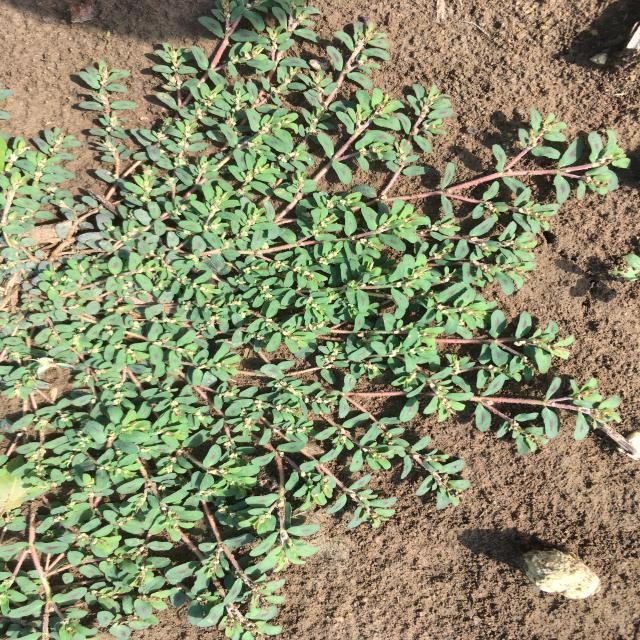SpottedSpurge: (1, 1, 631, 640)
